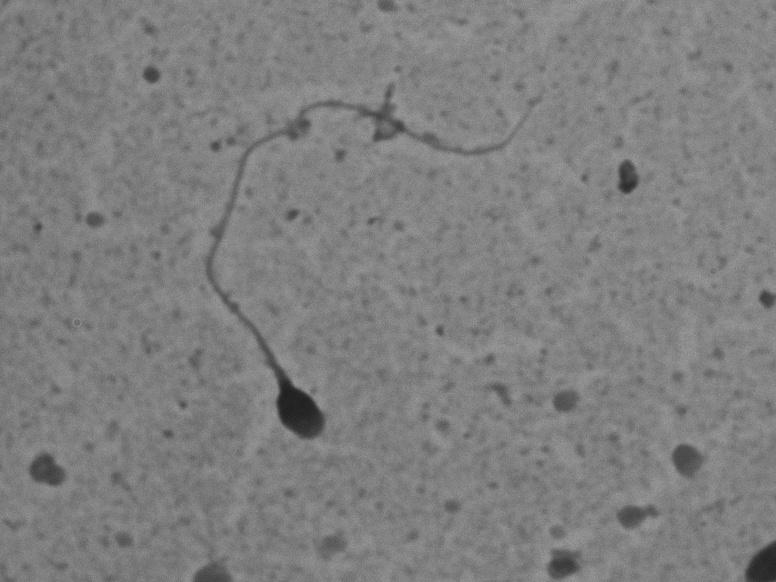Abnormal: (178, 54, 562, 480)
